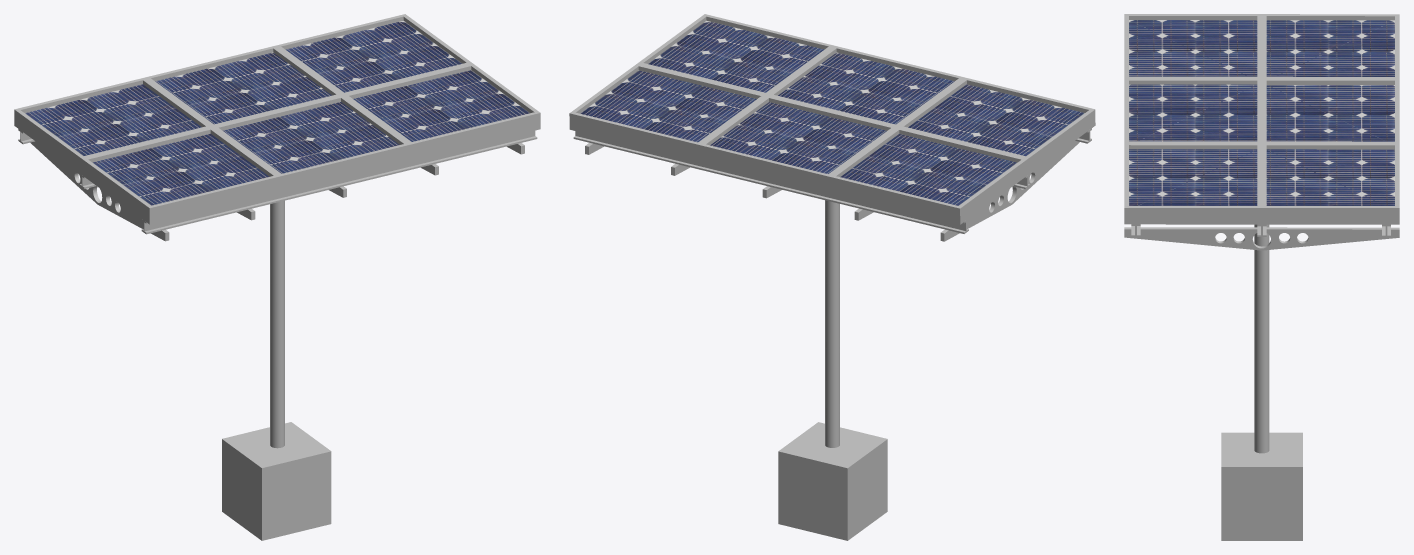
Rendered from Panel.fbx.
3 renders of one model, left to right at view 1: azimuth 30°, elevation 25°; view 2: azimuth 150°, elevation 25°; view 3: azimuth 270°, elevation 25°, orthographic.
Visible parts, largest first — view 1: Box001, Box002, Cylinder001; view 2: Box001, Box002, Cylinder001; view 3: Box001, Box002, Cylinder001.
Boxes of the visible parts, x1=… form: Box001: x1=14, y1=14, x2=540, y2=241; Box002: x1=222, y1=422, x2=331, y2=540; Cylinder001: x1=270, y1=200, x2=284, y2=448; Box001: x1=569, y1=14, x2=1095, y2=241; Box002: x1=778, y1=422, x2=887, y2=540; Cylinder001: x1=825, y1=200, x2=839, y2=447; Box001: x1=1124, y1=14, x2=1399, y2=250; Box002: x1=1221, y1=432, x2=1302, y2=540; Cylinder001: x1=1254, y1=224, x2=1269, y2=453.
Size of the model in its own units: 500 by 497 by 300.
